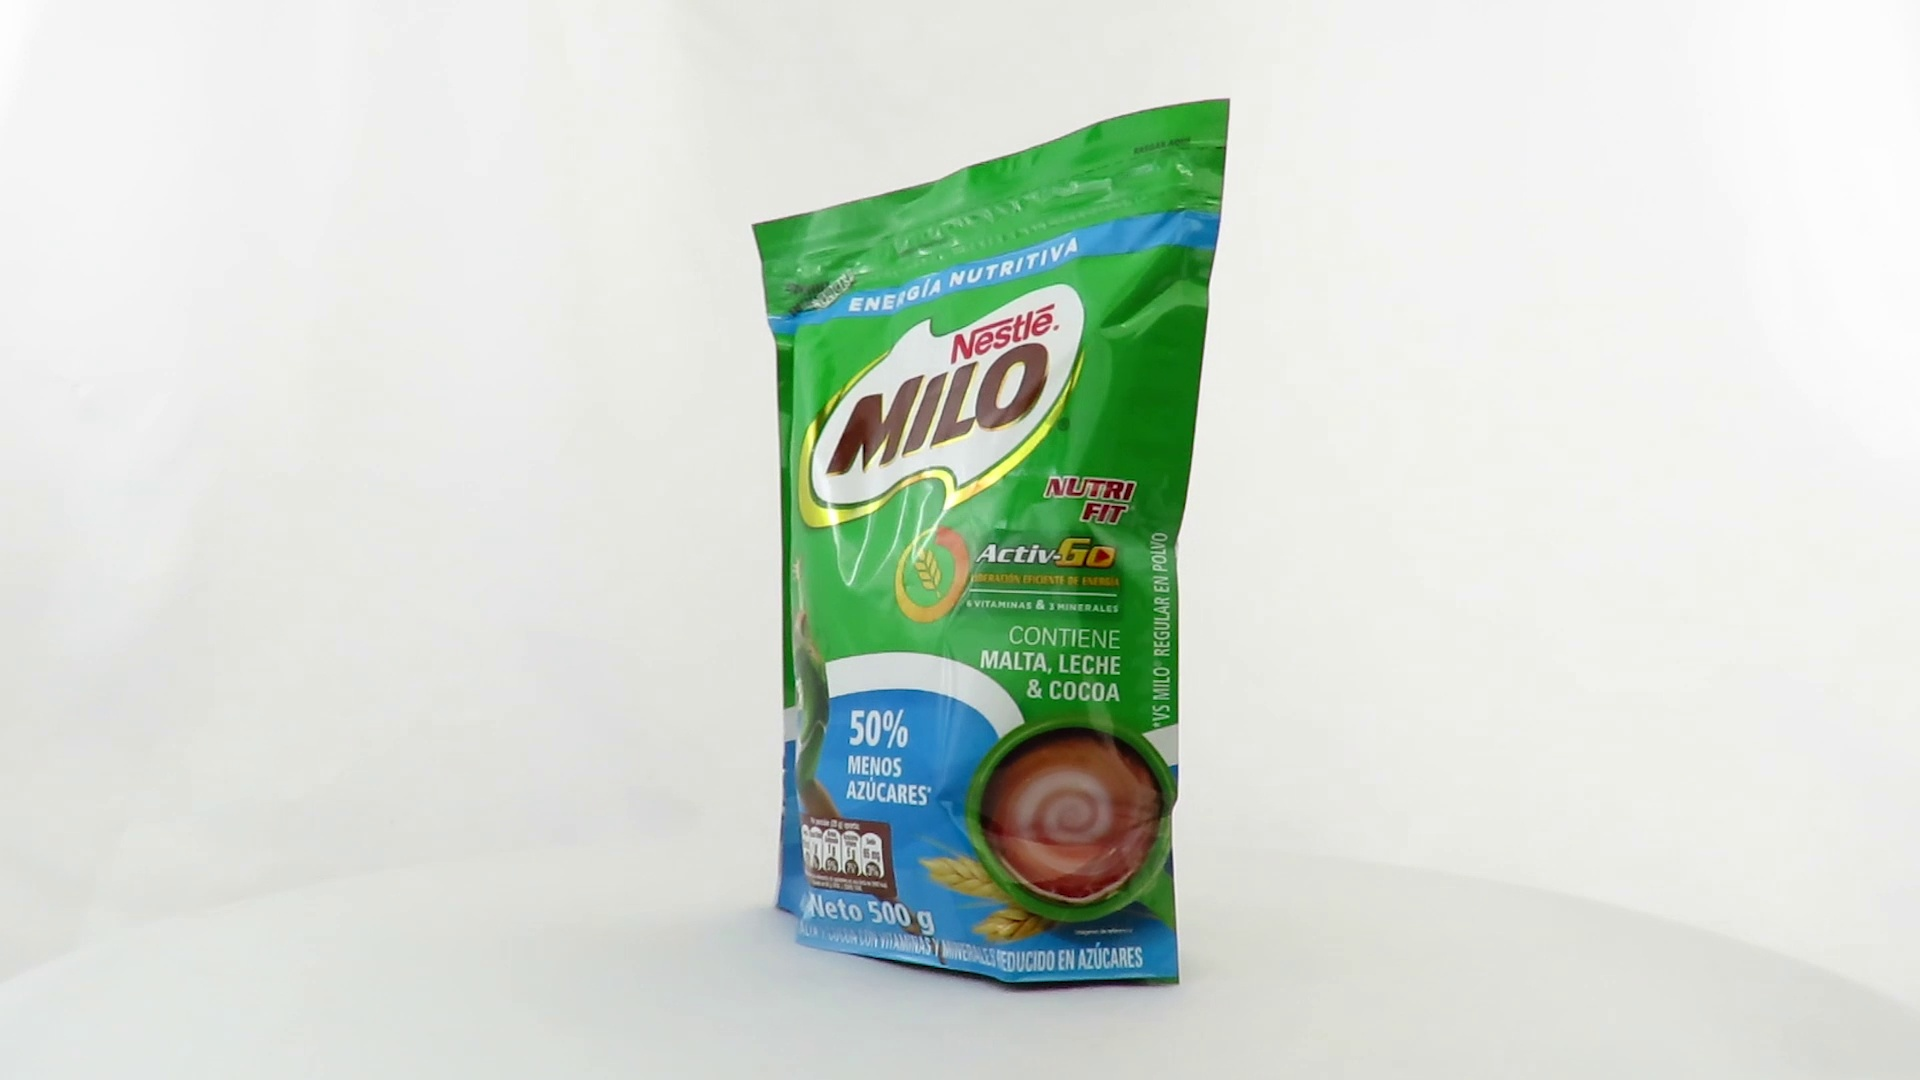COL0170205DYP50000: (746, 94, 1236, 1000)
